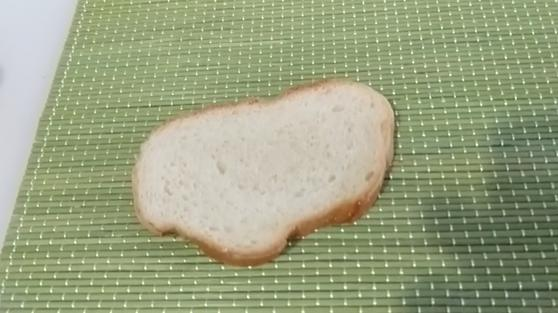white_bread: (130, 73, 397, 264)
